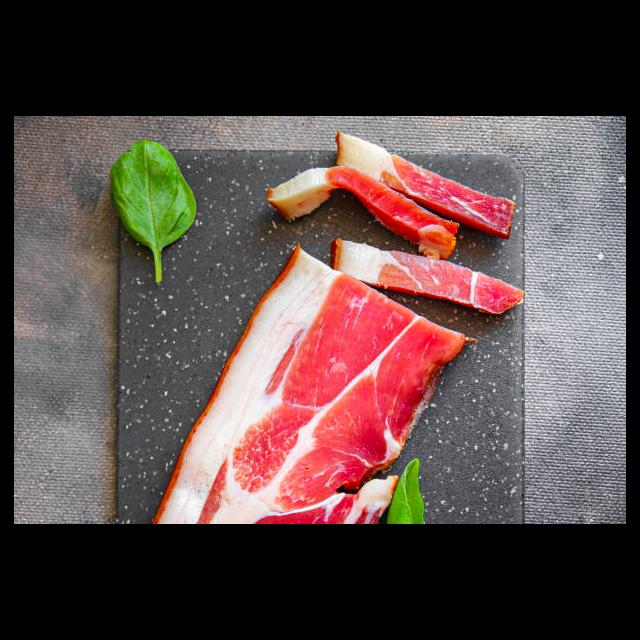pork: (243, 260, 466, 422), (158, 379, 381, 524), (272, 138, 518, 256)
